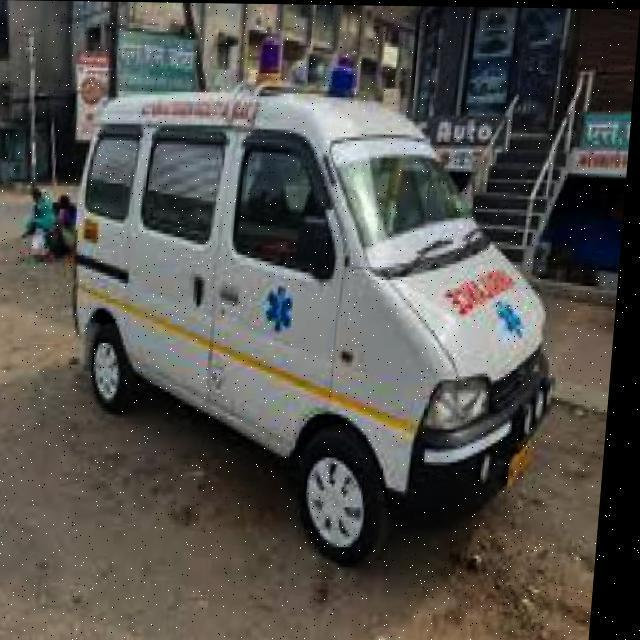Ambulance: (50, 75, 584, 570), (18, 182, 65, 267)
